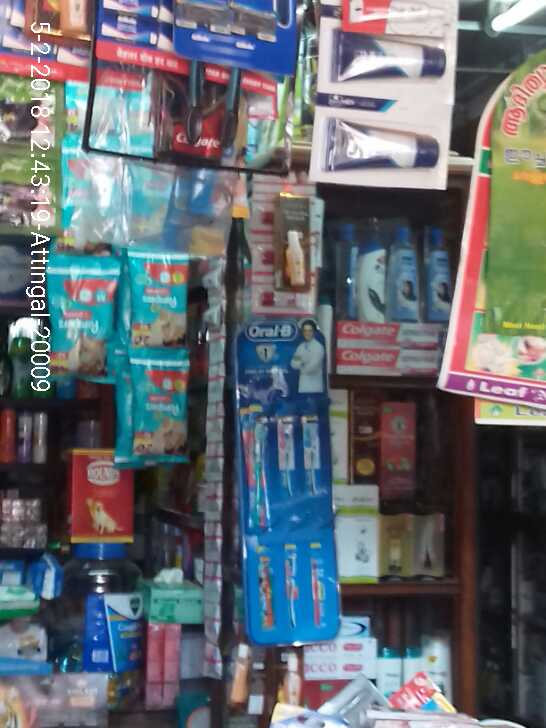pharmacy: (45, 256, 119, 345), (128, 355, 189, 460), (128, 252, 188, 346), (239, 409, 273, 534)
